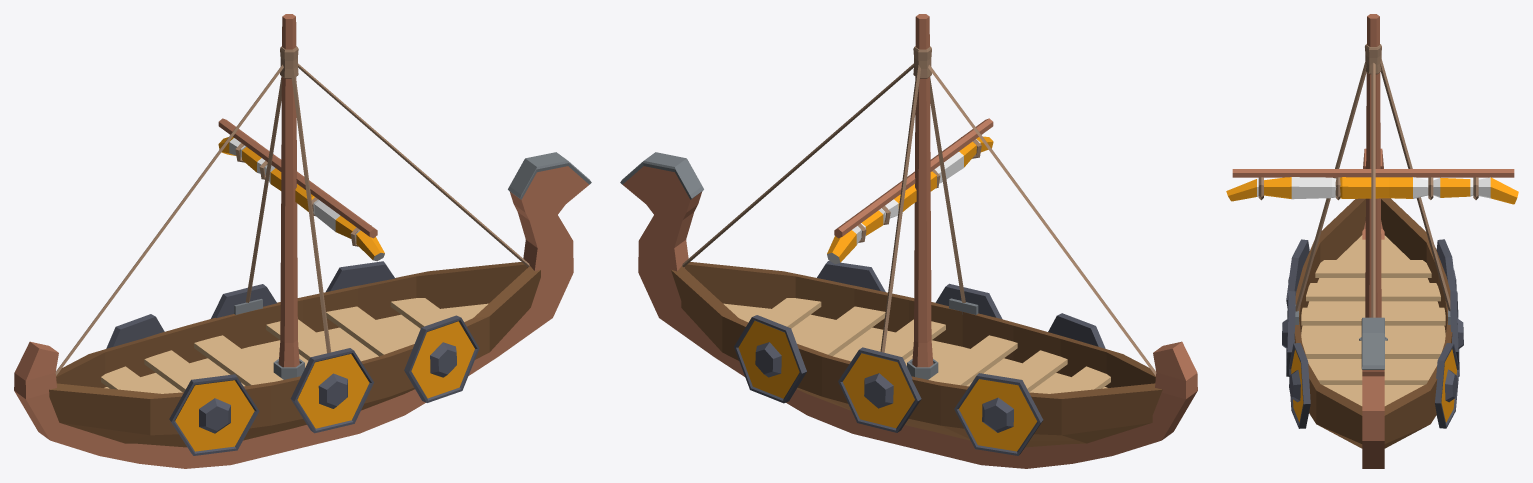
File: Viking_Longship.glb
3 renders of one model, left to right at view 1: azimuth 30°, elevation 25°; view 2: azimuth 150°, elevation 25°; view 3: azimuth 270°, elevation 25°, orthographic. The views are drawn at different scales.
Visible parts, largest first — view 1: Cube_WoodBark.008_0, Cube_Wood.009_0, Cube_WoodBare.000_0, Cube_Flag.009_0, Cube_Metal.024_0, Cube_Rope.003_0, Cube_AxeHead.001_0, Cube_Material_0; view 2: Cube_WoodBark.008_0, Cube_Wood.009_0, Cube_WoodBare.000_0, Cube_Flag.009_0, Cube_Metal.024_0, Cube_Rope.003_0, Cube_AxeHead.001_0, Cube_Material_0; view 3: Cube_WoodBare.000_0, Cube_WoodBark.008_0, Cube_Wood.009_0, Cube_Metal.024_0, Cube_Flag.009_0, Cube_Rope.003_0, Cube_Material_0, Cube_AxeHead.001_0.
Part boxes in pixels (bbox=[...]): Cube_WoodBark.008_0: bbox=[49, 262, 540, 447]; Cube_Wood.009_0: bbox=[14, 14, 588, 468]; Cube_WoodBare.000_0: bbox=[101, 298, 488, 393]; Cube_Flag.009_0: bbox=[175, 137, 474, 451]; Cube_Metal.024_0: bbox=[106, 261, 479, 455]; Cube_Rope.003_0: bbox=[55, 46, 529, 375]; Cube_AxeHead.001_0: bbox=[234, 152, 591, 379]; Cube_Material_0: bbox=[229, 138, 384, 261]; Cube_WoodBark.008_0: bbox=[671, 262, 1162, 447]; Cube_Wood.009_0: bbox=[623, 14, 1197, 468]; Cube_WoodBare.000_0: bbox=[723, 298, 1110, 393]; Cube_Flag.009_0: bbox=[738, 136, 1036, 451]; Cube_Metal.024_0: bbox=[734, 261, 1105, 455]; Cube_Rope.003_0: bbox=[682, 46, 1156, 375]; Cube_AxeHead.001_0: bbox=[620, 152, 978, 379]; Cube_Material_0: bbox=[827, 139, 980, 264]; Cube_WoodBare.000_0: bbox=[1301, 235, 1445, 405]; Cube_WoodBark.008_0: bbox=[1294, 198, 1452, 448]; Cube_Wood.009_0: bbox=[1232, 14, 1514, 468]; Cube_Metal.024_0: bbox=[1282, 239, 1463, 428]; Cube_Flag.009_0: bbox=[1226, 177, 1518, 422]; Cube_Rope.003_0: bbox=[1258, 44, 1478, 317]; Cube_Material_0: bbox=[1257, 177, 1490, 199]; Cube_AxeHead.001_0: bbox=[1295, 305, 1450, 369].
Size of the model in its own units: 674 by 488 by 324.
